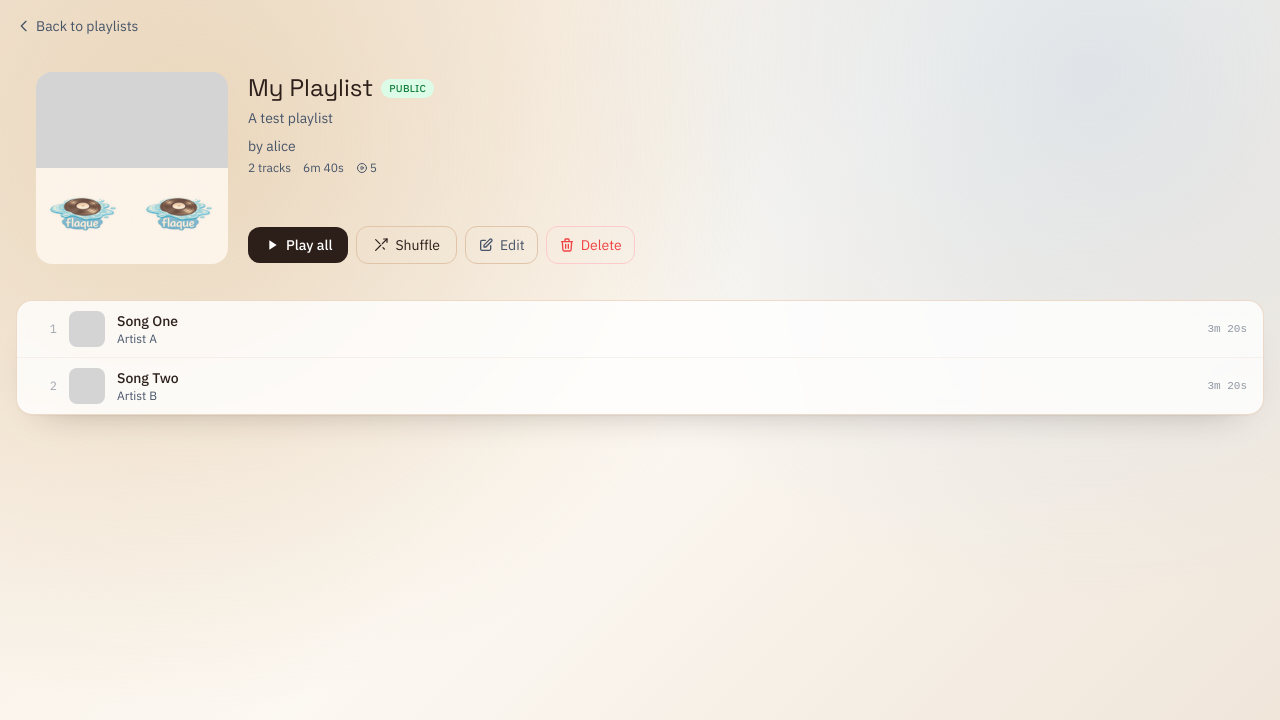
it: PlaylistDetailView › inline edit shows visibility selector
What coordinates should you click on to do the following:
click the button "Edit"
I would click on:
 (501, 245)
Its box is [465,226,538,264].
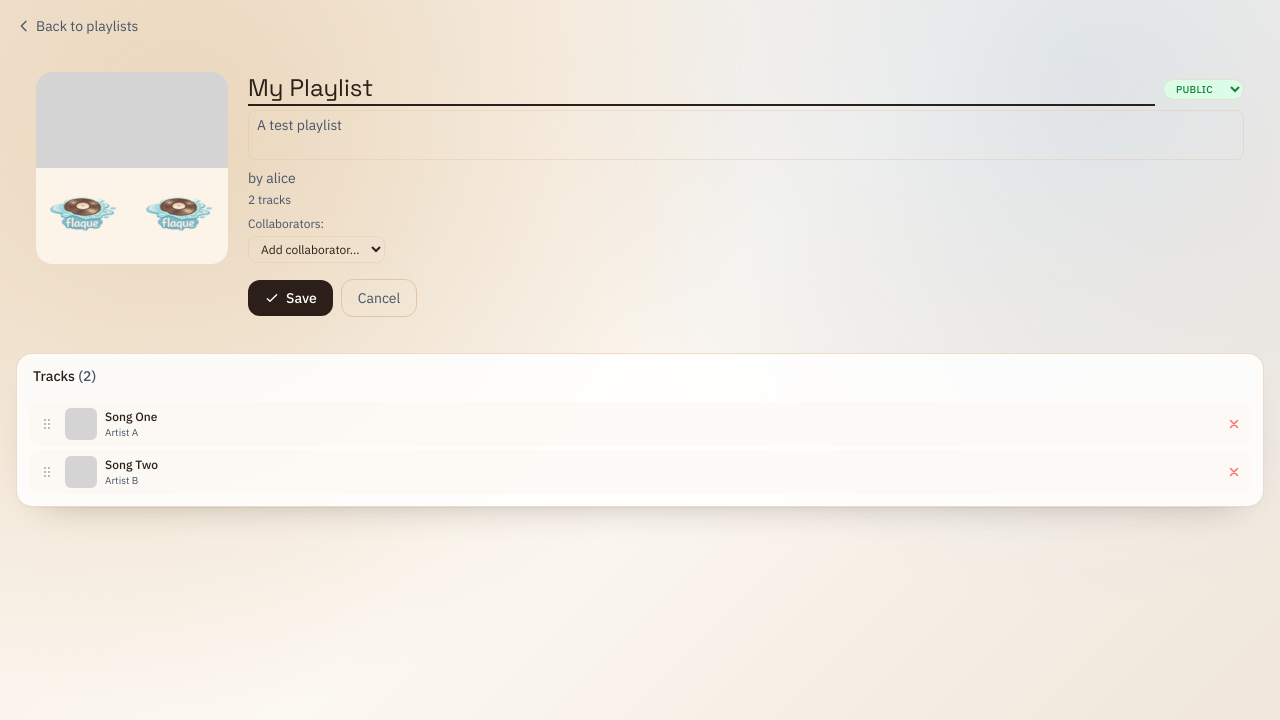
Result: the 1st dropdown is shown at [1163,78,1244,100]
